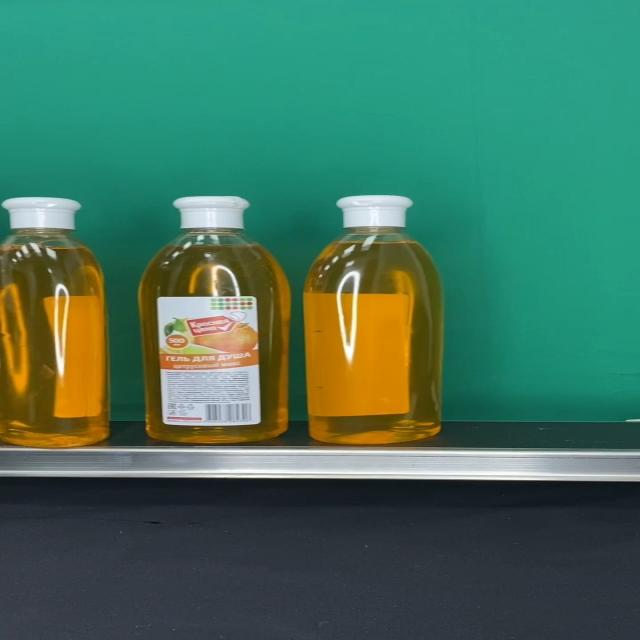Bottle: (138, 196, 292, 443), (302, 196, 444, 444), (0, 196, 110, 447)
Cap: (336, 196, 415, 230), (1, 197, 82, 230), (170, 196, 250, 229)
